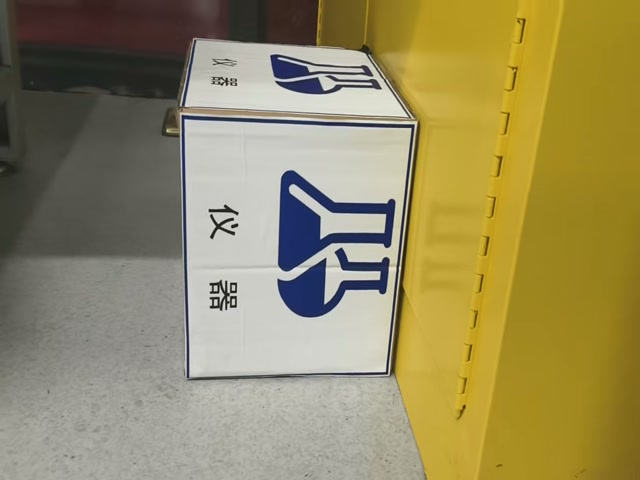Cube_ins: (177, 45, 414, 126)
